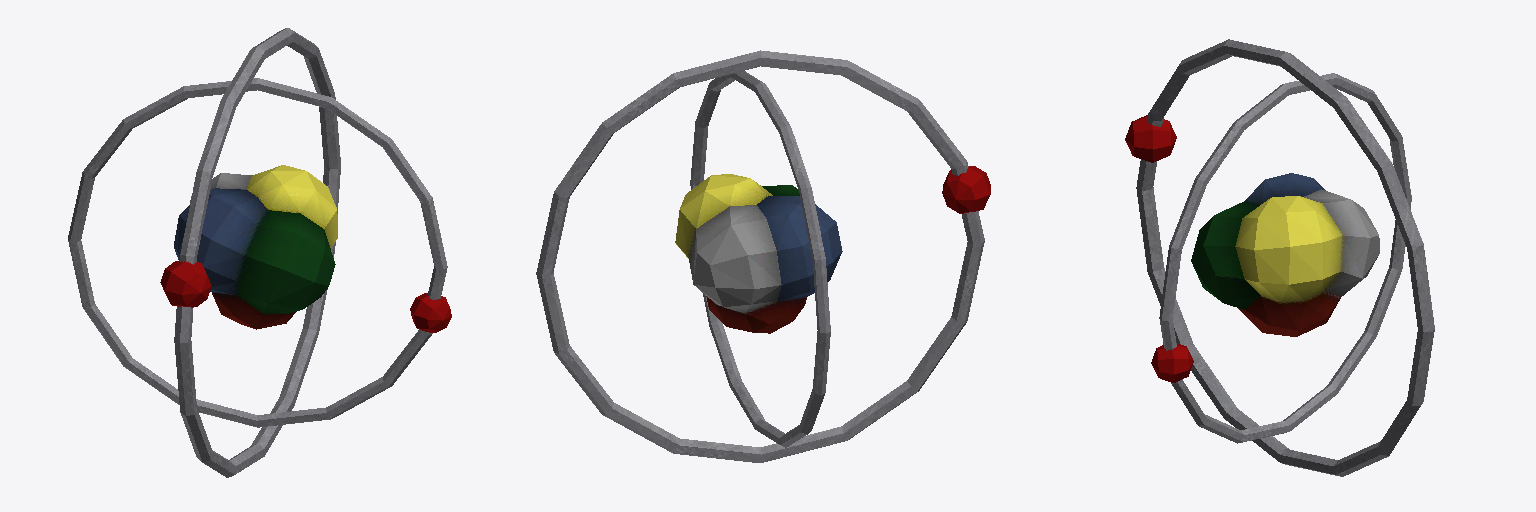
The picture shows the model from 3 angles: view 1: azimuth 30°, elevation 25°; view 2: azimuth 150°, elevation 25°; view 3: azimuth 270°, elevation 25°; orthographic projection.
Parts seen in each view (by area): view 1: unwrapped2, Object09, Object10, Object12, Object11; view 2: Object09, unwrapped2, Object10, Object12; view 3: unwrapped2, Object09, Object10, Object12, Object11.
Part boxes in pixels (left/top/right/bottom): unwrapped2: left=174, top=165, right=337, bottom=329; Object09: left=174, top=28, right=340, bottom=477; Object10: left=68, top=78, right=447, bottom=427; Object12: left=160, top=261, right=211, bottom=307; Object11: left=410, top=293, right=451, bottom=332; Object09: left=536, top=50, right=984, bottom=462; unwrapped2: left=675, top=174, right=842, bottom=333; Object10: left=690, top=71, right=830, bottom=447; Object12: left=942, top=166, right=990, bottom=213; unwrapped2: left=1191, top=173, right=1379, bottom=336; Object09: left=1136, top=39, right=1434, bottom=476; Object10: left=1159, top=73, right=1411, bottom=443; Object12: left=1125, top=115, right=1176, bottom=162; Object11: left=1151, top=343, right=1193, bottom=382.
Bounding box in the file's own units: 28.09 × 35.32 × 24.03.
1 materials, 1 textured.